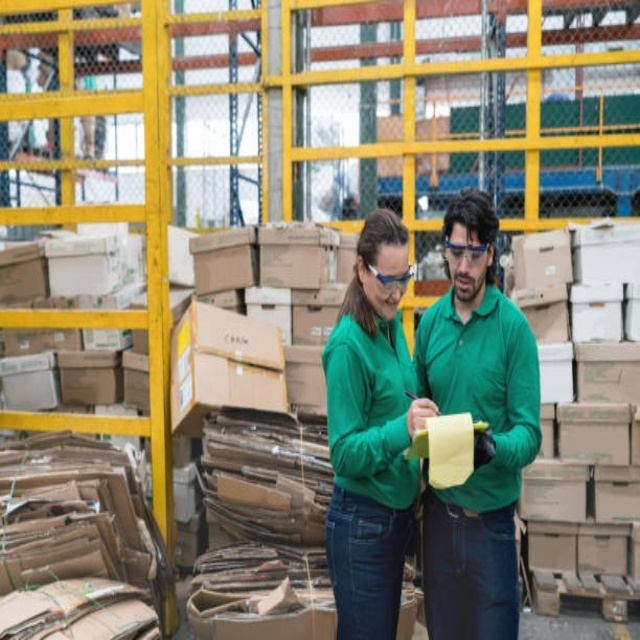Gafas: (367, 260, 416, 287), (445, 241, 490, 263)
Guantes: (473, 428, 497, 472)
Sin_guantes: (404, 394, 439, 439)
Sin_mascara: (452, 268, 476, 298), (379, 290, 402, 318)
